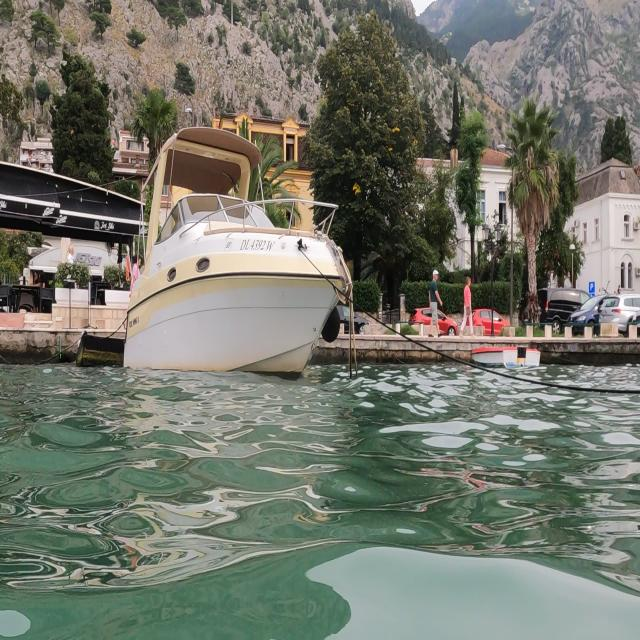boat: (122, 122, 354, 378)
